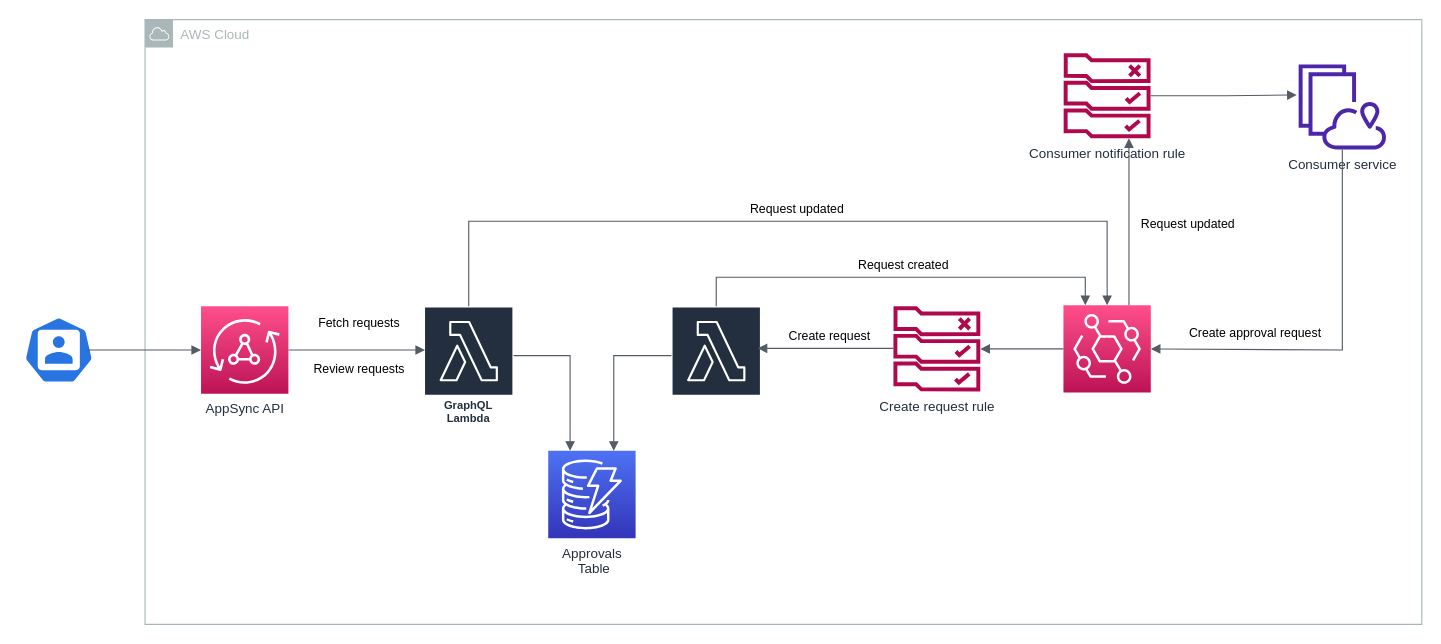
Image size: 1441x644. Some labels were removed from this diagram. The centre of each missing label's shape, as x and y in pixels:
Event Bridge: (x=1106, y=348)
Event Bridge Lambda: (x=715, y=367)
Users: (x=58, y=349)
